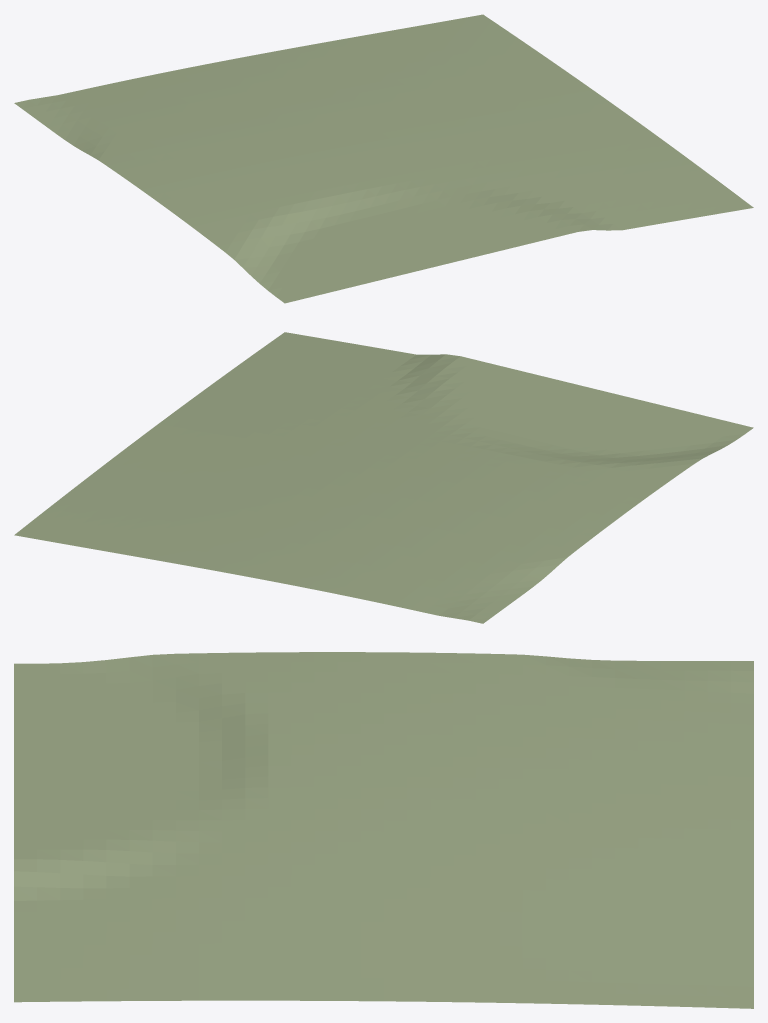
The model's file is lunar-5-4.glb.
3 renders of one model, top to bottom at view 1: azimuth 30°, elevation 25°; view 2: azimuth 150°, elevation 25°; view 3: azimuth 270°, elevation 25°, orthographic. The views are drawn at different scales.
Parts seen in each view (by area): view 1: lunar-5-4; view 2: lunar-5-4; view 3: lunar-5-4.
Part boxes in pixels (bbox=[...]): lunar-5-4: bbox=[14, 14, 753, 303]; lunar-5-4: bbox=[14, 332, 753, 623]; lunar-5-4: bbox=[14, 652, 753, 1008].
Bounding box in the file's own units: 128 × 8.42 × 128.
